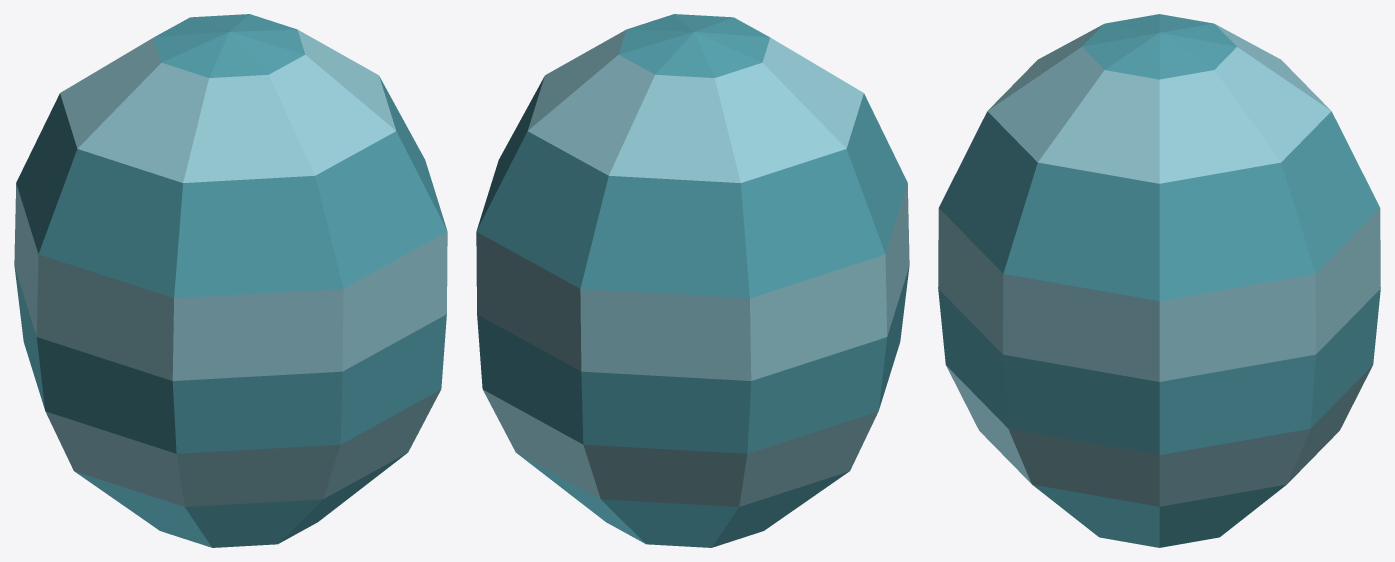
File: Huevo_de_pascua_1.fbx
3 renders of one model, left to right at view 1: azimuth 30°, elevation 25°; view 2: azimuth 150°, elevation 25°; view 3: azimuth 270°, elevation 25°, orthographic.
Parts seen in each view (by area): view 1: pSphere1; view 2: pSphere1; view 3: pSphere1.
Part boxes in pixels (box(x1,y1,x2,y2)): pSphere1: box(14, 14, 447, 547); pSphere1: box(476, 14, 909, 547); pSphere1: box(938, 14, 1380, 547).
Size of the model in its own units: 12.92 by 15.77 by 12.9.
